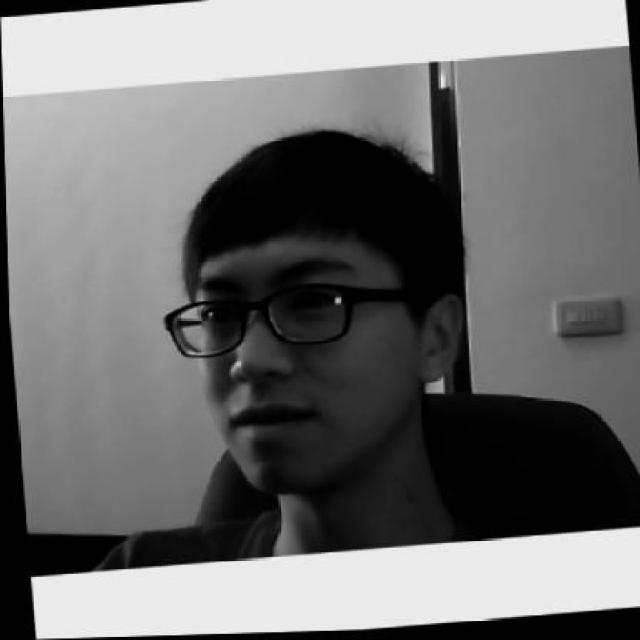attentif: (144, 122, 478, 503)
